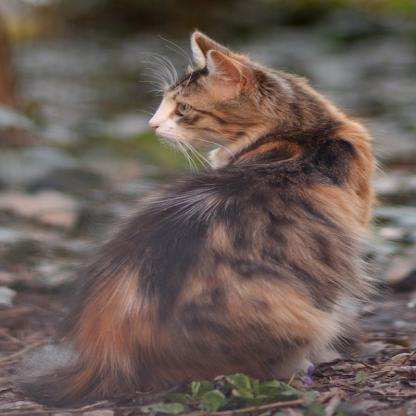cat: (23, 30, 374, 408)
